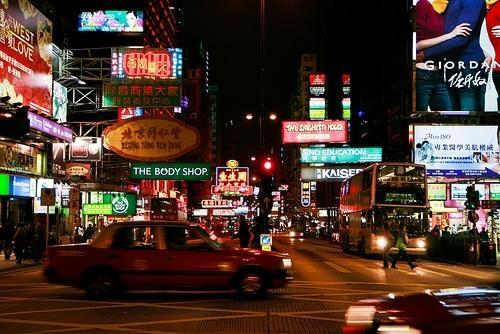bus: (339, 162, 428, 256)
car: (40, 220, 296, 302), (342, 282, 500, 334), (291, 228, 303, 238)
